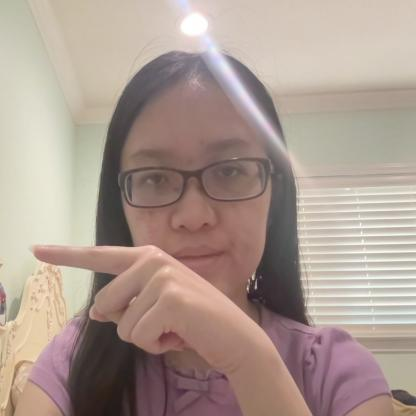finger_point: (26, 240, 135, 274)
